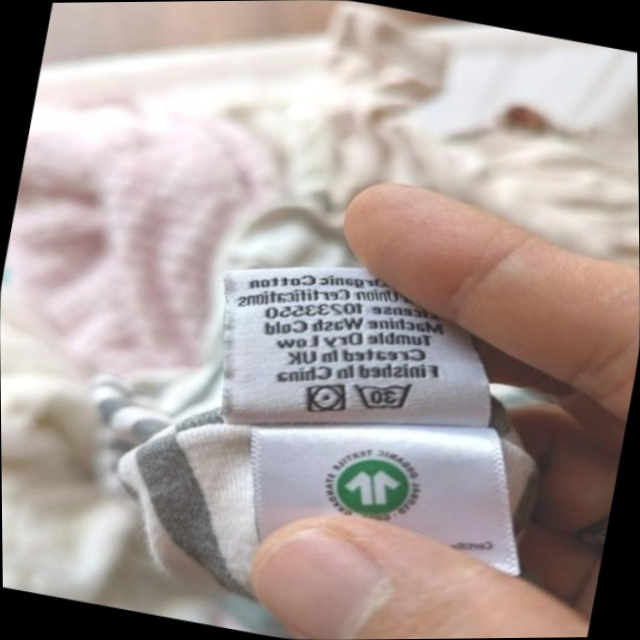30C: (346, 367, 423, 424)
tumble_dry_low: (297, 373, 354, 424)
